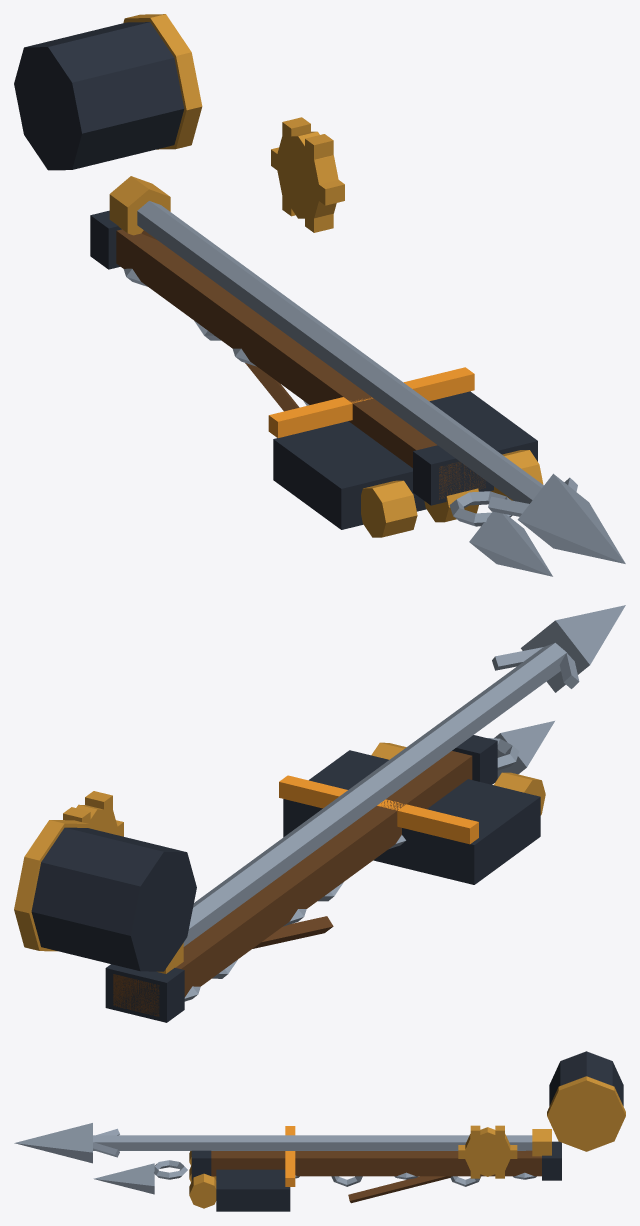
Rendered from HarpoonA2.obj.
3 views of the same model, one above another, from view 1: azimuth 30°, elevation 25°; view 2: azimuth 150°, elevation 25°; view 3: azimuth 270°, elevation 25° (orthographic). The views are drawn at different scales.
Visible parts, largest first — view 1: HarpoonA2; view 2: HarpoonA2; view 3: HarpoonA2.
Part boxes in pixels (bbox=[...]): HarpoonA2: bbox=[14, 14, 625, 576]; HarpoonA2: bbox=[14, 605, 625, 1022]; HarpoonA2: bbox=[14, 1051, 625, 1211].
Bounding box in the file's own units: 0.575 × 0.6292 × 2.48.
